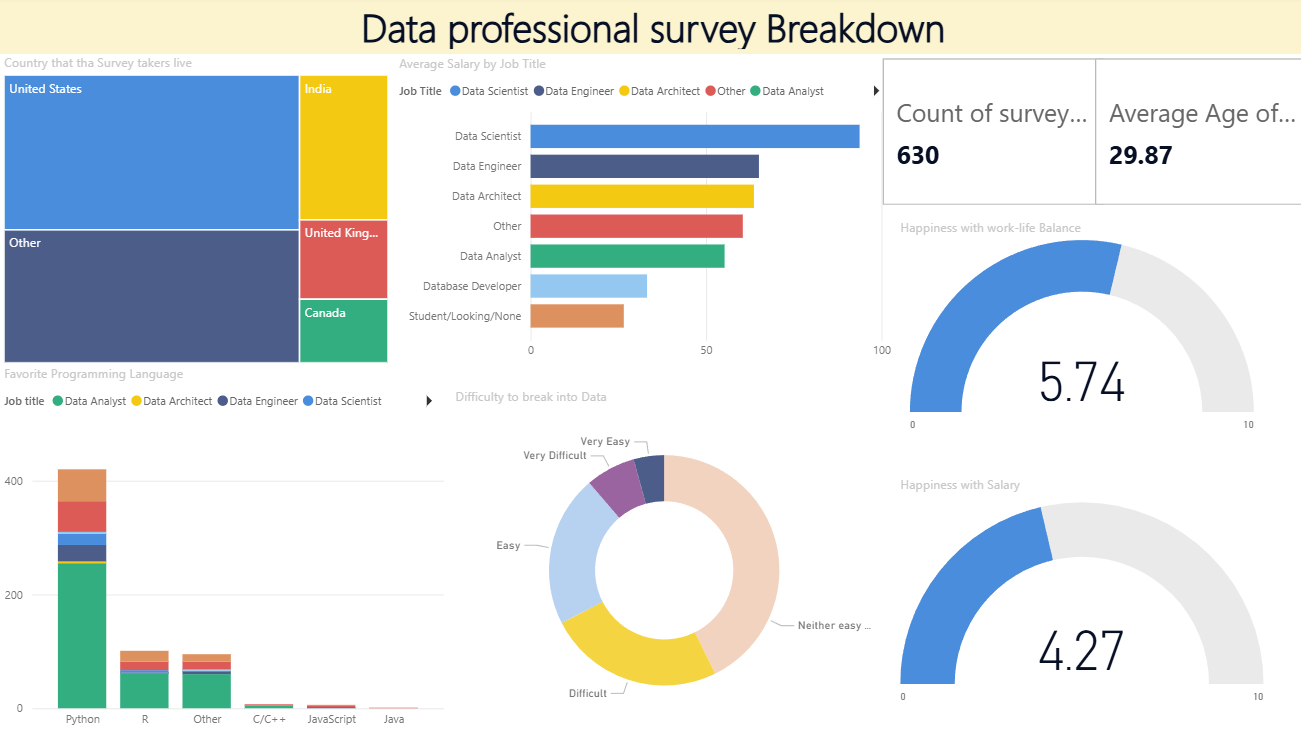

This screenshot's page, from the dashboard's own definition file:
{"tool":"powerbi","page":{"name":"Page 1","canvas":[1280,720],"ordinal":0},"visuals":[{"type":"textbox","box":[9.6,0,1270.7,56.3],"z":0},{"type":"cardVisual","fields":{"Data":["Count(Data Professional Survey.Unique ID)"]},"box":[858.1,55.6,223.8,151.1],"z":1},{"type":"cardVisual","fields":{"Data":["Avg(Data Professional Survey.Q10 - Current Age)"]},"box":[1063.3,55.6,216.7,151.1],"z":2},{"type":"barChart","title":"Average Salary by Job Title","fields":{"Category":["Data Professional Survey.Q1 - Which Title Best Fits your Current Role?.1"],"Y":["Avg(Data Professional Survey.Average Salary)"],"Series":["Data Professional Survey.Q1 - Which Title Best Fits your Current Role?.1"]},"box":[390.6,57,484.6,302.2],"z":3},{"type":"columnChart","title":"Favorite Programming Language","fields":{"Category":["Data Professional Survey.Q5 - Favorite Programming Language.1"],"Y":["CountNonNull(Data Professional Survey.Unique ID)"],"Series":["Data Professional Survey.Q1 - Which Title Best Fits your Current Role?.1"]},"box":[10,356.3,434.7,359.2],"z":4},{"type":"treemap","title":"Country that tha Survey takers live","fields":{"Group":["Data Professional Survey.Q11 - Which Country do you live in?.1"],"Values":["CountNonNull(Data Professional Survey.Q11 - Which Country do you live in?.1)"]},"box":[10,55.6,380.6,303.6],"z":5},{"type":"gauge","title":"Happiness with work-life Balance","fields":{"Y":["Avg(Data Professional Survey.Q6 - How Happy are you in your Current Position with the following? (Work/Life Balance))"],"MinValue":["Min(Data Professional Survey.Q6 - How Happy are you in your Current Position with the following? (Work/Life Balance))"],"MaxValue":["Max(Data Professional Survey.Q6 - How Happy are you in your Current Position with the following? (Work/Life Balance))1"]},"box":[875.2,215.2,360.6,212.4],"z":6},{"type":"gauge","title":"Happiness with Salary","fields":{"Y":["Avg(Data Professional Survey.Q6 - How Happy are you in your Current Position with the following? (Salary))"],"MinValue":["Min(Data Professional Survey.Q6 - How Happy are you in your Current Position with the following? (Salary))"],"MaxValue":["Max(Data Professional Survey.Q6 - How Happy are you in your Current Position with the following? (Salary))"]},"box":[875.2,463.3,360.6,230.9],"z":7},{"type":"donutChart","title":"Difficulty to break into Data","fields":{"Category":["Data Professional Survey.Q7 - How difficult was it for you to break into Data?"],"Y":["CountNonNull(Data Professional Survey.Q7 - How difficult was it for you to break into Data?)"]},"box":[444.7,377.7,413.4,337.8],"z":8}]}

Visuals, with their boxes in screenshot pixels (x1, y1, x2, y2), scaled from the page's 1280x720 canvas onto the 1301x738 screenshot:
textbox: detection(10, 0, 1300, 58)
cardVisual - Count(Data Professional Survey.Unique ID): detection(872, 57, 1100, 212)
cardVisual - Avg(Data Professional Survey.Q10 - Current Age): detection(1081, 57, 1300, 212)
"Average Salary by Job Title" barChart: detection(397, 58, 890, 368)
"Favorite Programming Language" columnChart: detection(10, 365, 452, 733)
"Country that tha Survey takers live" treemap: detection(10, 57, 397, 368)
"Happiness with work-life Balance" gauge: detection(890, 221, 1256, 438)
"Happiness with Salary" gauge: detection(890, 475, 1256, 712)
"Difficulty to break into Data" donutChart: detection(452, 387, 872, 733)
